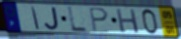0: (141, 9, 159, 35)
H: (115, 7, 141, 34)
I: (30, 5, 41, 31)
J: (44, 6, 61, 31)
L: (67, 6, 90, 33)
P: (88, 7, 110, 33)
